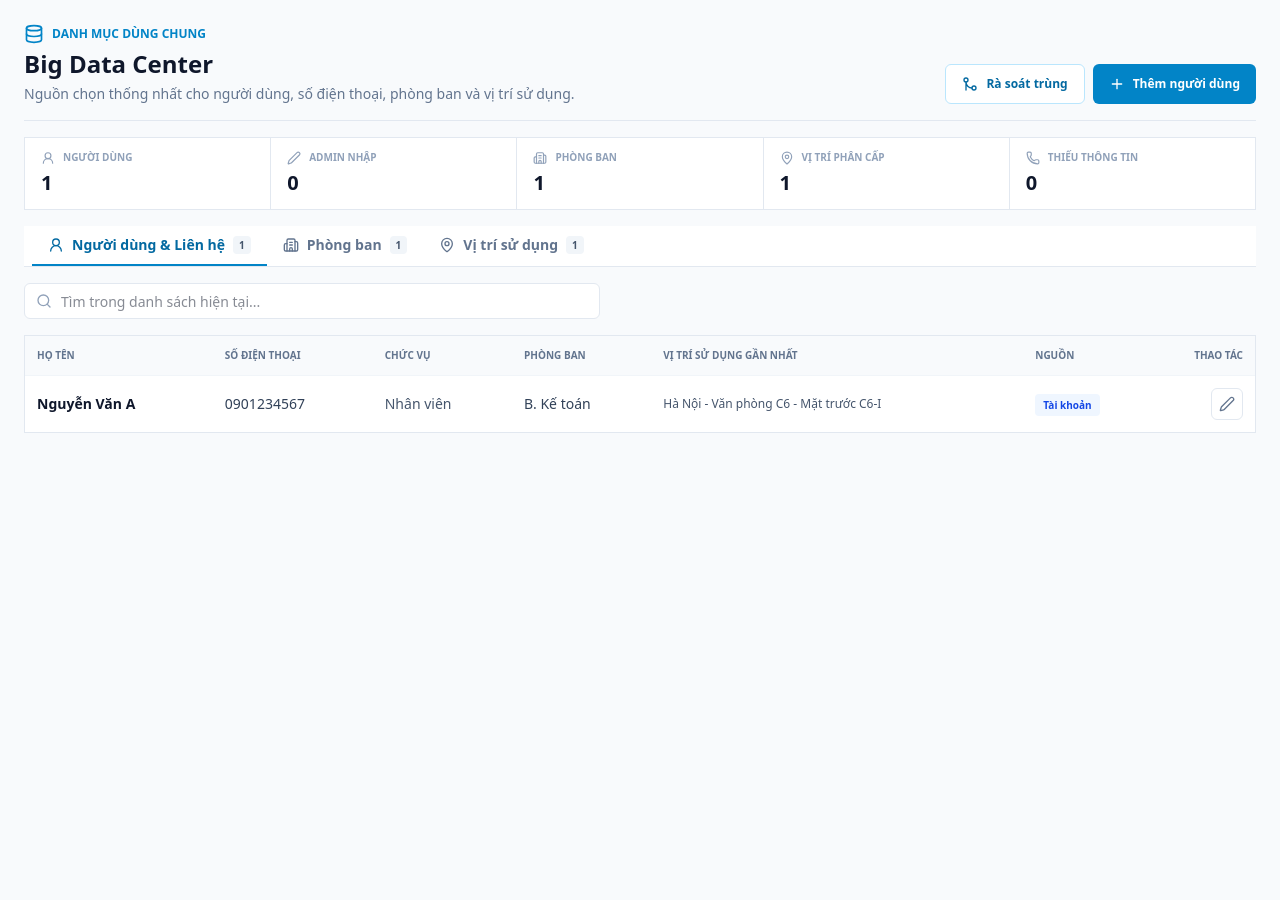
Test: Big Data Center › shows unified people, departments and hierarchical locations
This screenshot has width=1280, height=900.
expect the text "Nguyễn Văn A" is shown: met, box left=37, top=394, right=135, bottom=413
expect the text "0901234567" is shown: met, box left=225, top=394, right=305, bottom=413
What coordinates should you click on to do the following:
click the button titled "Sửa liên hệ"
I would click on:
 (1227, 404)
Its box is left=1211, top=388, right=1243, bottom=420.
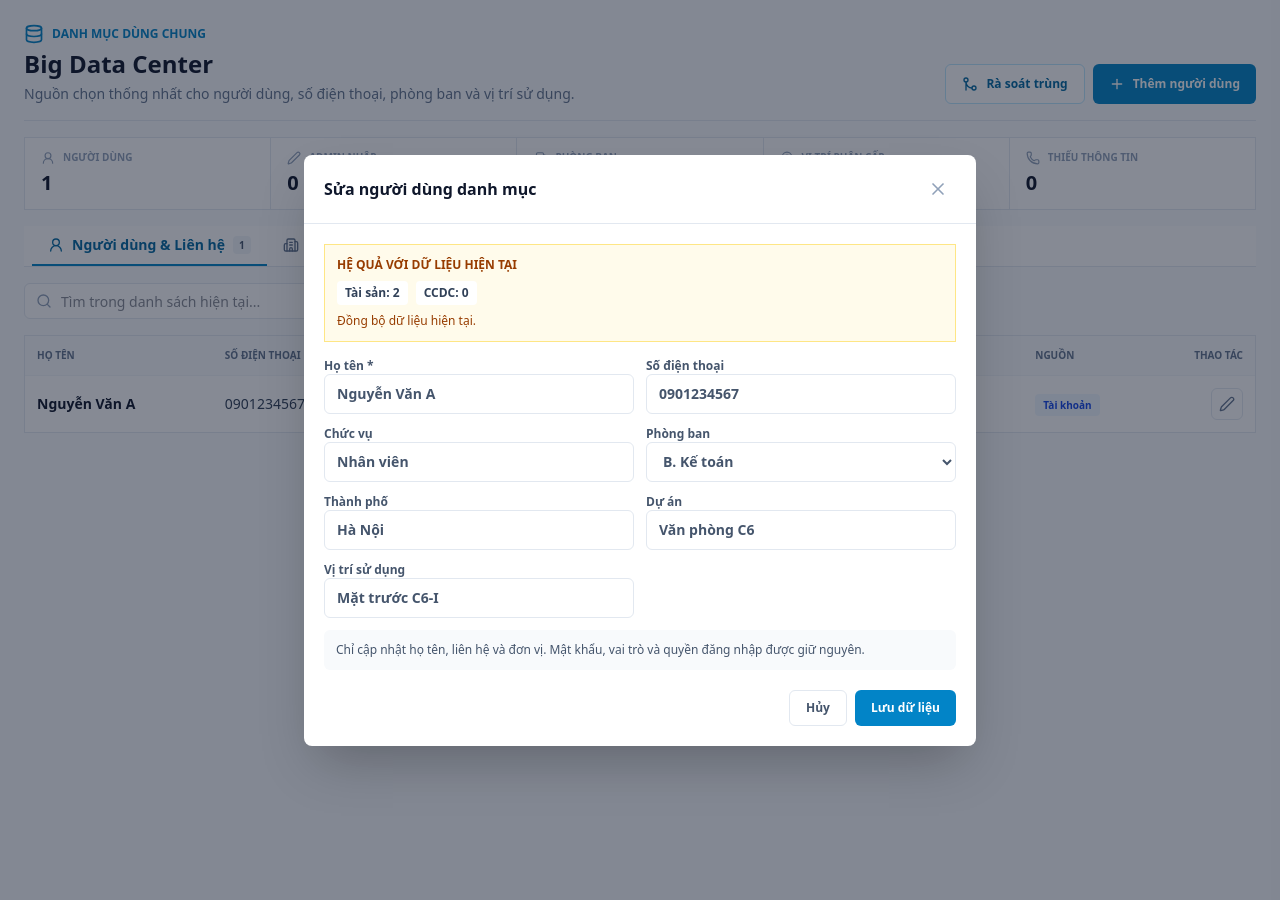
expect the heading "Sửa người dùng danh mục" is shown: met, box left=324, top=178, right=536, bottom=200
expect the text "Mật khẩu, vai trò và quyền đăng nhập được giữ nguyên" is shown: met, box left=336, top=640, right=865, bottom=658
What coordinates should you click on to do the following:
click the button "Hủy"
I would click on:
 (818, 708)
Its box is left=789, top=690, right=847, bottom=726.
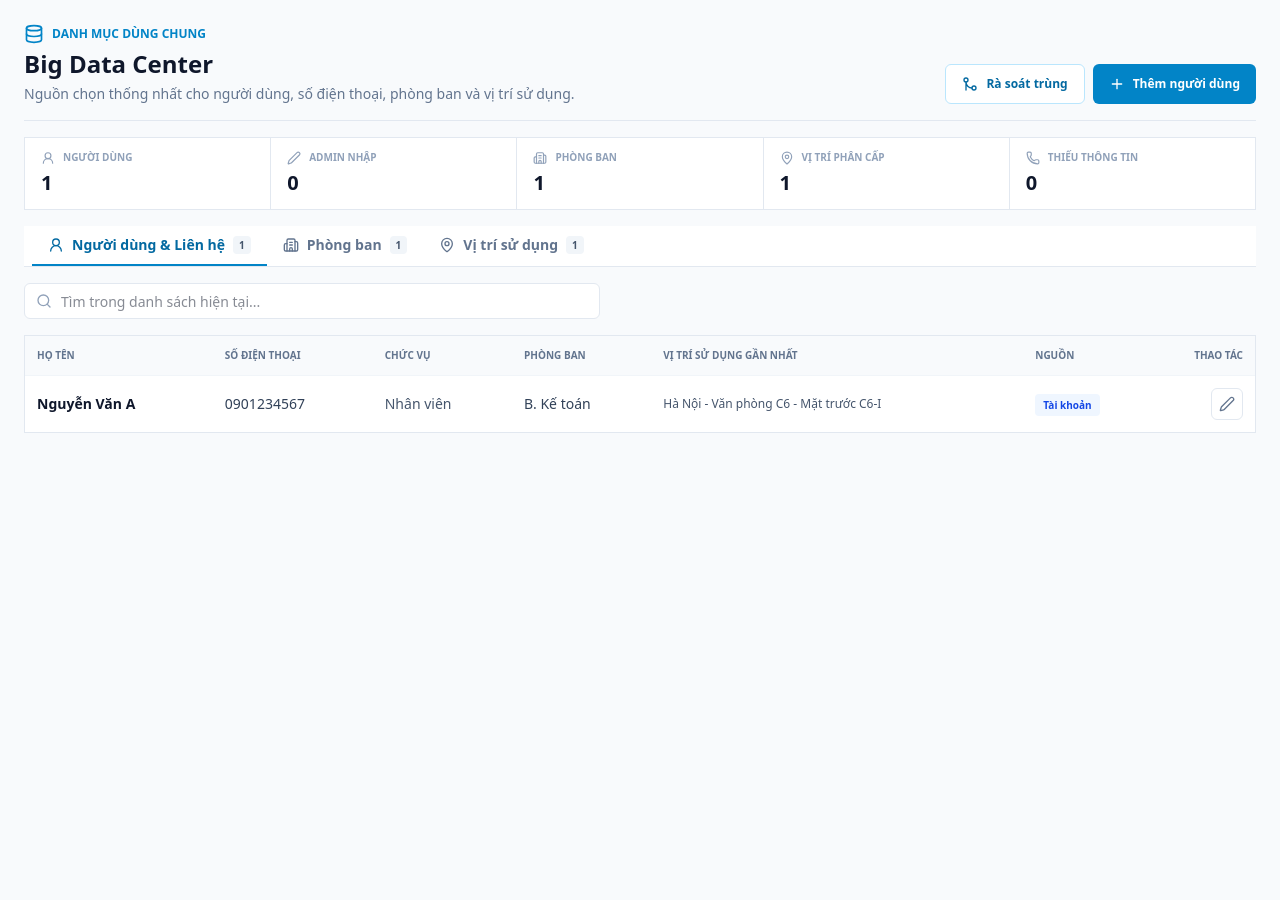
What coordinates should you click on to do the following:
click the button "Phòng ban 1"
I would click on:
 (345, 246)
Its box is left=267, top=226, right=423, bottom=266.
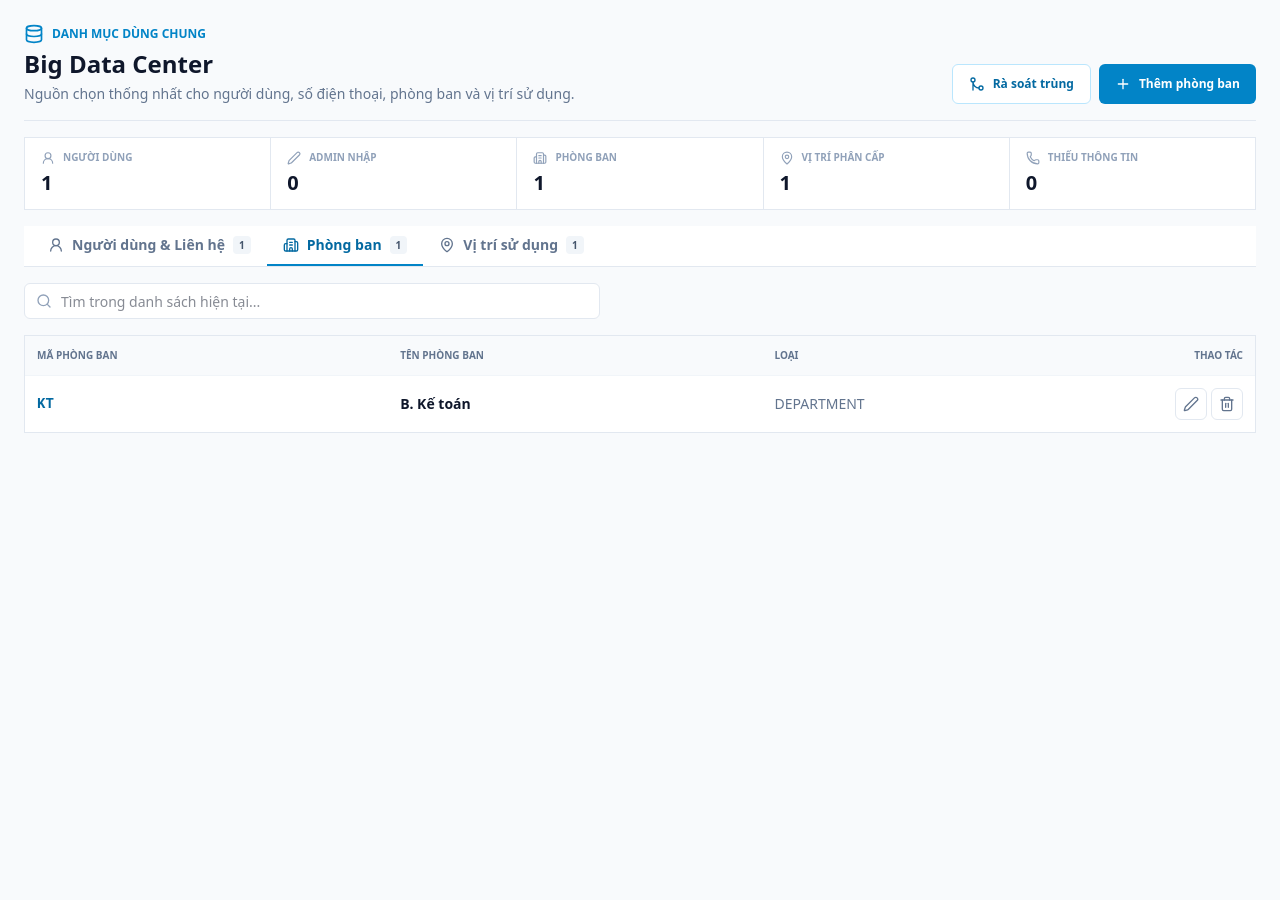
expect the text "B. Kế toán" is shown: met, box left=400, top=394, right=471, bottom=413
What coordinates should you click on to do the following:
click the button "Vị trí sử dụng 1"
I would click on:
 (512, 246)
Its box is left=423, top=226, right=600, bottom=266.
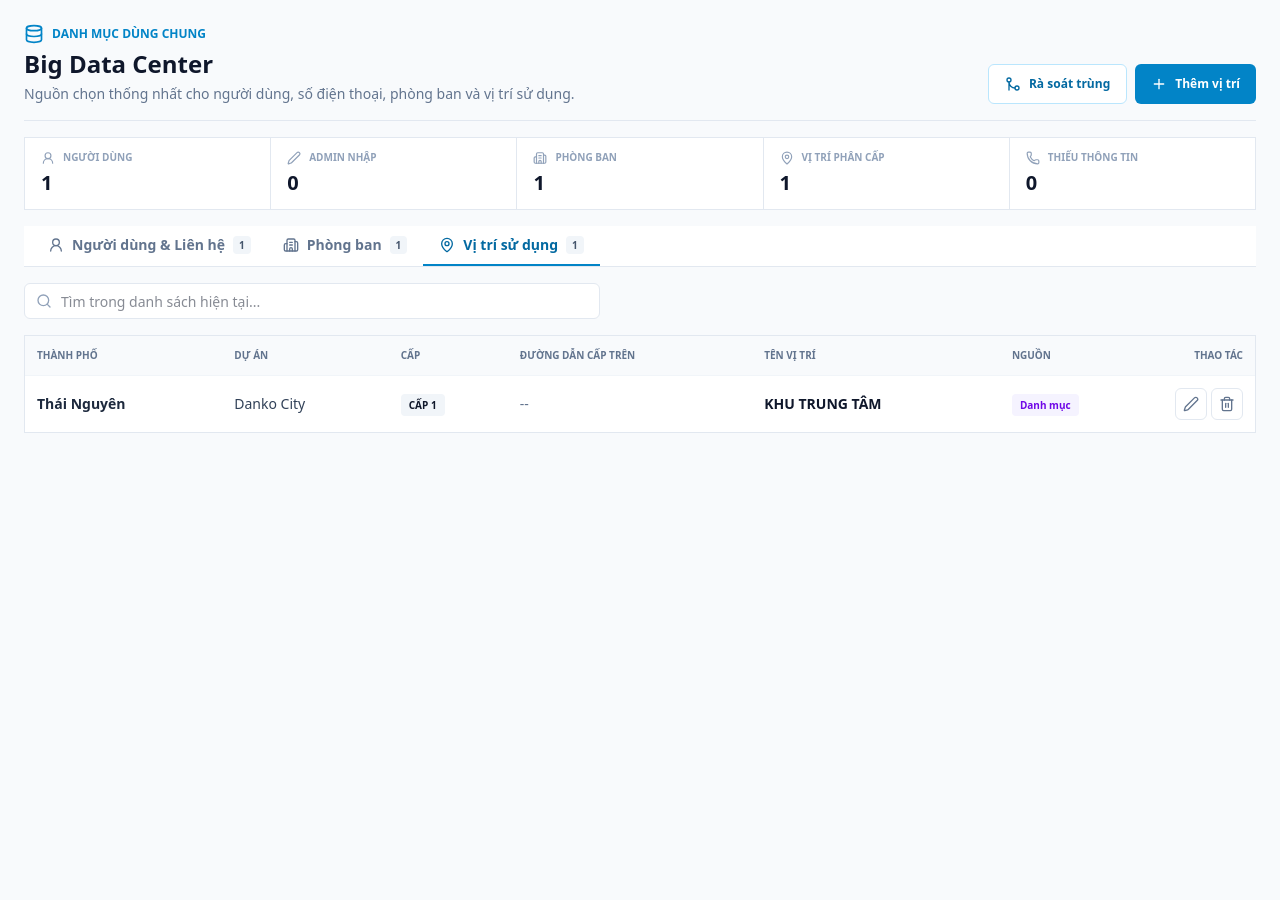
expect the text "KHU TRUNG TÂM" is shown: met, box left=764, top=394, right=882, bottom=413
